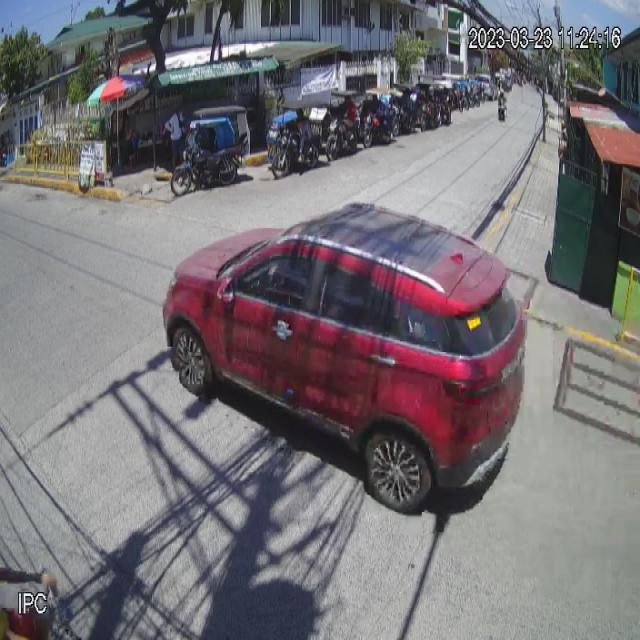Car: (162, 195, 528, 511)
Tricycle: (170, 104, 250, 198)
